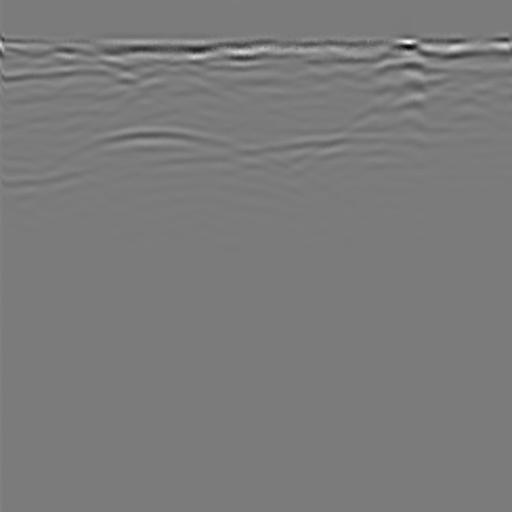hyperbola: (21, 114, 308, 231)
